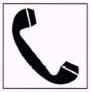telefone: (1, 1, 88, 92)
